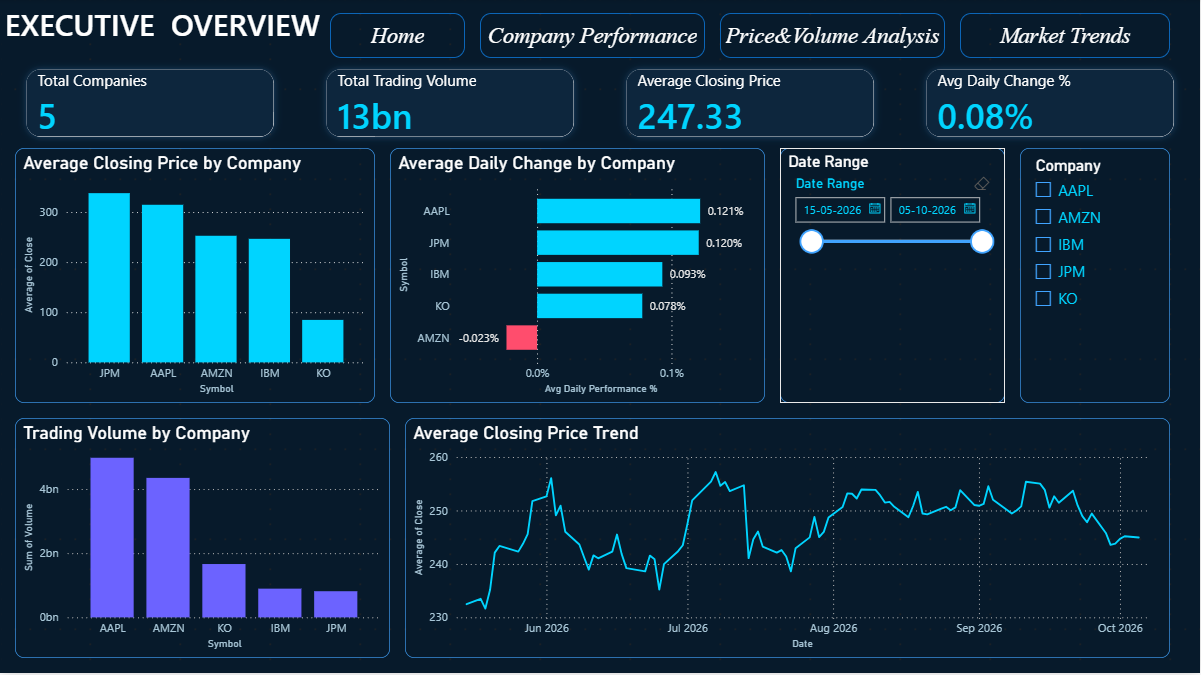

This screenshot's page, from the dashboard's own definition file:
{"tool":"powerbi","page":{"name":"Executive Overview","canvas":[1280,720],"ordinal":1},"visuals":[{"type":"textbox","box":[0,0,400,64],"z":0},{"type":"cardVisual","fields":{"Data":["Sum(stock_prices.Volume)"]},"box":[320,48,320,128],"z":1000},{"type":"cardVisual","fields":{"Data":["Avg(stock_prices.Close)"]},"box":[640,48,320,128],"z":2000},{"type":"cardVisual","fields":{"Data":["company_kpi.Average Daily Change Display"]},"box":[960,48,320,128],"z":3000},{"type":"clusteredColumnChart","title":"Average Closing Price by Company","fields":{"Y":["Avg(stock_prices.Close)"],"Category":["stock_prices.Symbol"]},"box":[16,160,384,272],"z":4000},{"type":"clusteredColumnChart","title":"Trading Volume by Company","fields":{"Category":["stock_prices.Symbol"],"Y":["Sum(stock_prices.Volume)"]},"box":[16,448,400,256],"z":5000},{"type":"slicer","title":"Date Range","fields":{"Values":["dim_date.Date"]},"box":[832,160,240,272],"z":6000},{"type":"slicer","fields":{"Values":["stock_prices.Symbol"]},"box":[1088,160,160,272],"z":7000},{"type":"cardVisual","fields":{"Data":["Count(dim_company.Company_Name)"]},"box":[0,48,320,128],"z":8000},{"type":"lineChart","title":"Average Closing Price Trend","fields":{"Y":["Avg(stock_prices.Close)"],"Category":["dim_date.Date"]},"box":[432,448,816,256],"z":9000},{"type":"clusteredBarChart","title":"Average Daily Change by Company","fields":{"Category":["stock_prices.Symbol"],"Y":["company_kpi.Average Daily Performance Display"]},"box":[416,160,400,272],"z":10000},{"type":"shape","box":[352,16,144,48],"z":11000},{"type":"shape","box":[512,16,240,48],"z":12000},{"type":"shape","box":[768,16,240,48],"z":13000},{"type":"shape","box":[1024,16,224,48],"z":14000}]}

Visuals, with their boxes in screenshot pixels (x1, y1, x2, y2), scaled from the page's 1280x720 canvas onto the 1201x675 screenshot:
textbox: [0,0,375,60]
cardVisual - Sum(stock_prices.Volume): [300,45,600,165]
cardVisual - Avg(stock_prices.Close): [600,45,901,165]
cardVisual - company_kpi.Average Daily Change Display: [901,45,1200,165]
"Average Closing Price by Company" clusteredColumnChart: [15,150,375,405]
"Trading Volume by Company" clusteredColumnChart: [15,420,390,660]
"Date Range" slicer: [781,150,1006,405]
slicer - stock_prices.Symbol: [1021,150,1171,405]
cardVisual - Count(dim_company.Company_Name): [0,45,300,165]
"Average Closing Price Trend" lineChart: [405,420,1171,660]
"Average Daily Change by Company" clusteredBarChart: [390,150,766,405]
shape: [330,15,465,60]
shape: [480,15,706,60]
shape: [721,15,946,60]
shape: [961,15,1171,60]
